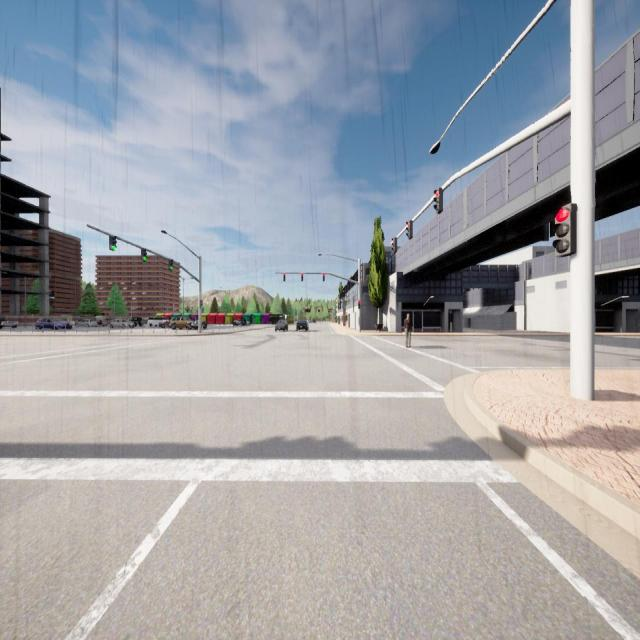Pedestrian: (403, 313, 413, 349)
Vehicle: (35, 315, 73, 331), (170, 316, 192, 330), (147, 315, 169, 329), (110, 318, 134, 329), (0, 315, 18, 329), (187, 320, 207, 330), (75, 318, 97, 327), (275, 319, 288, 332), (296, 319, 308, 331), (132, 316, 142, 328), (233, 318, 246, 327), (97, 318, 110, 327), (158, 320, 170, 329), (312, 320, 316, 324)
traffic_light: (552, 203, 577, 257), (433, 188, 443, 214), (406, 220, 413, 240), (109, 235, 117, 251), (392, 237, 397, 254), (141, 248, 147, 261), (168, 259, 174, 270), (200, 300, 203, 308), (358, 300, 360, 309), (323, 273, 325, 282), (284, 274, 286, 282), (301, 273, 303, 281)
